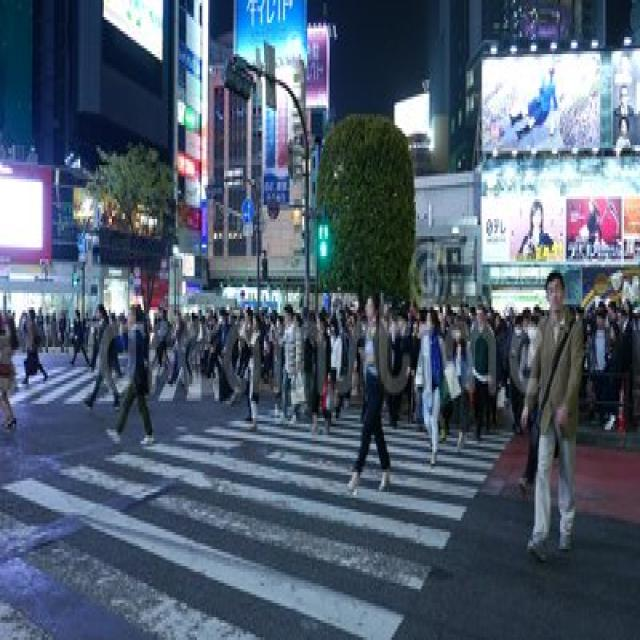Pedestrians: (528, 276, 584, 560), (352, 293, 394, 498), (110, 308, 156, 450), (414, 307, 450, 464)
